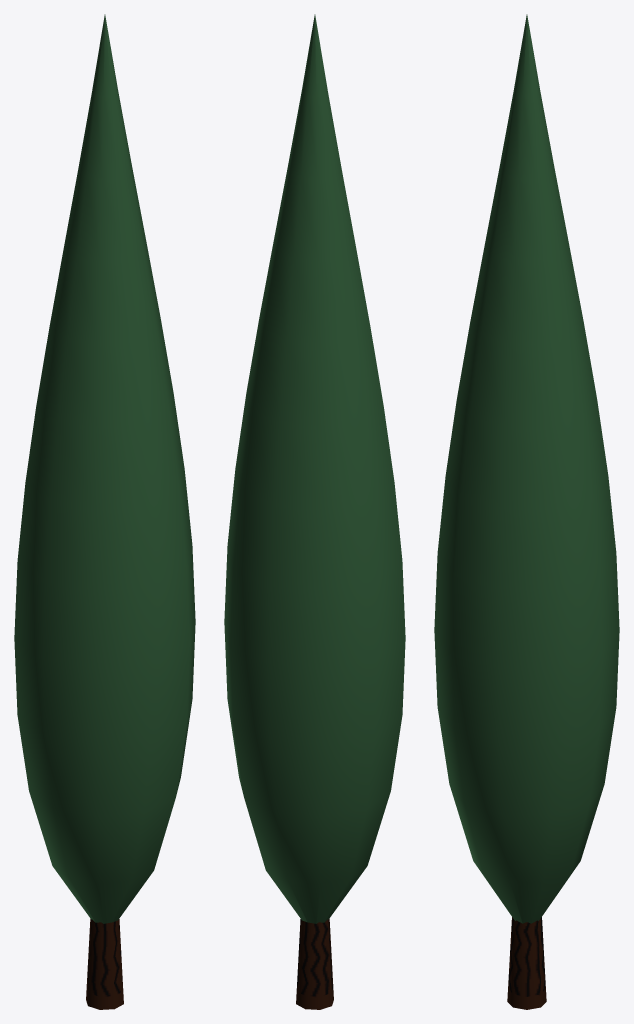
The model's file is selvi.glb.
3 renders of one model, left to right at view 1: azimuth 30°, elevation 25°; view 2: azimuth 150°, elevation 25°; view 3: azimuth 270°, elevation 25°, orthographic.
Visible parts, largest first — view 1: selvi; view 2: selvi; view 3: selvi.
Part boxes in pixels (x1,y1,x2,y2): selvi: (14, 14, 195, 1009); selvi: (224, 14, 405, 1009); selvi: (434, 14, 619, 1009).
Size of the model in its own units: 1.25 by 7.75 by 1.32.
Materials: 2 (1 with a texture image).
